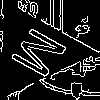M: (9, 26, 78, 85)
